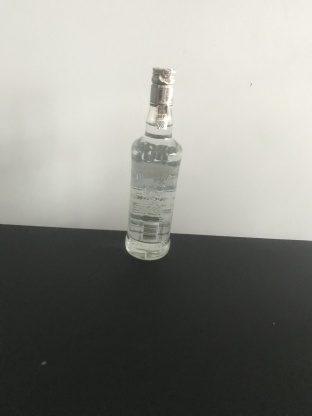nakretka: (148, 63, 177, 107)
